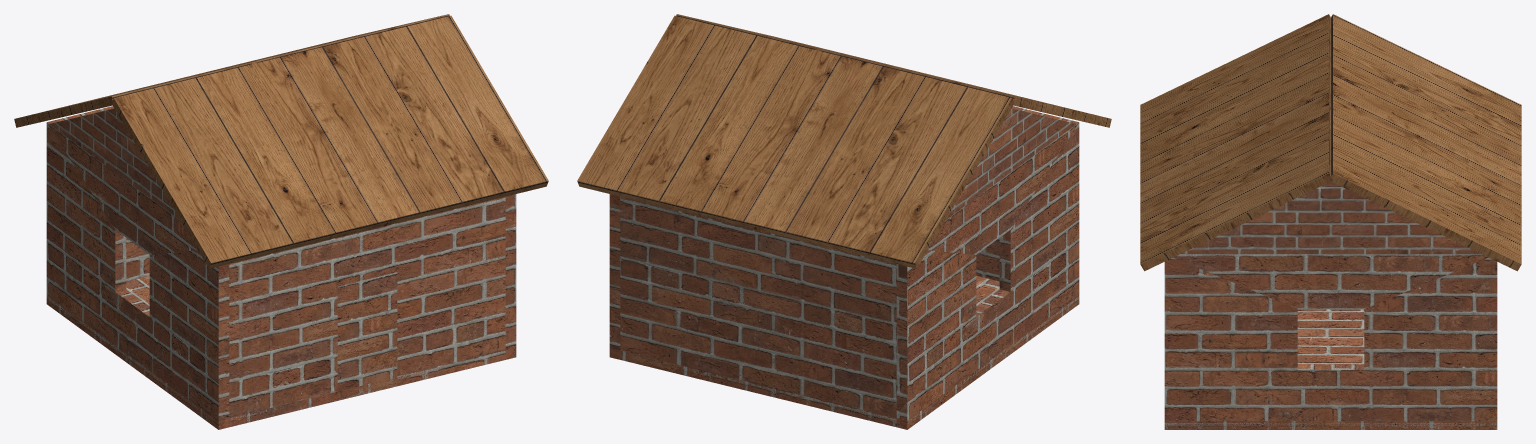
File: house_small.glb
3 renders of one model, left to right at view 1: azimuth 30°, elevation 25°; view 2: azimuth 150°, elevation 25°; view 3: azimuth 270°, elevation 25°, orthographic. The views are drawn at different scales.
Parts seen in each view (by area): view 1: HouseSmall; view 2: HouseSmall; view 3: HouseSmall.
Part boxes in pixels (bbox=[...]): HouseSmall: bbox=[14, 14, 548, 429]; HouseSmall: bbox=[577, 14, 1111, 429]; HouseSmall: bbox=[1140, 14, 1521, 429].
Size of the model in its own units: 6.8 by 5.29 by 6.88.
2 materials, 2 textured.
